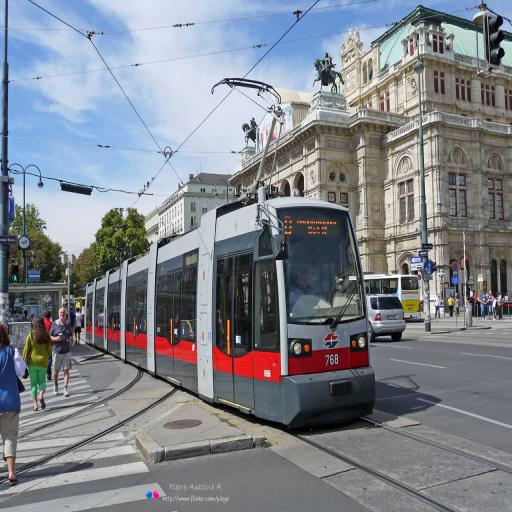ULF: (86, 194, 376, 442)
